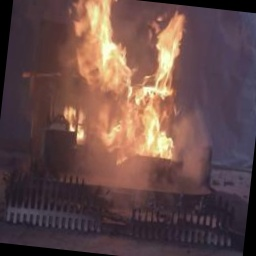fire: (38, 0, 202, 193)
